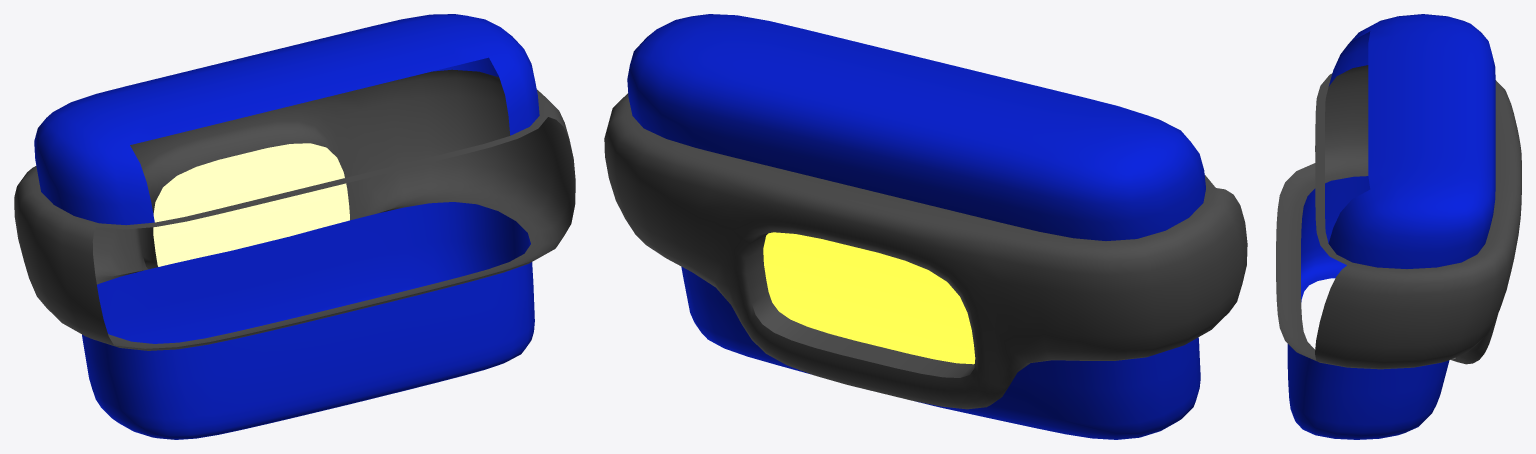
Rendered from mesh_Lootbox_Lock.fbx.
The picture shows the model from 3 angles, left to right: view 1: azimuth 30°, elevation 25°; view 2: azimuth 150°, elevation 25°; view 3: azimuth 270°, elevation 25°; orthographic projection. The views are drawn at different scales.
Visible parts, largest first — view 1: mesh_Lootbox_Top.001; view 2: mesh_Lootbox_Top.001; view 3: mesh_Lootbox_Top.001.
Boxes of the visible parts, <box> form: mesh_Lootbox_Top.001: <box>14,14,575,439</box>; mesh_Lootbox_Top.001: <box>604,14,1247,439</box>; mesh_Lootbox_Top.001: <box>1276,14,1521,439</box>.
Bounding box in the file's own units: 0.4714 × 0.2485 × 0.2159.
